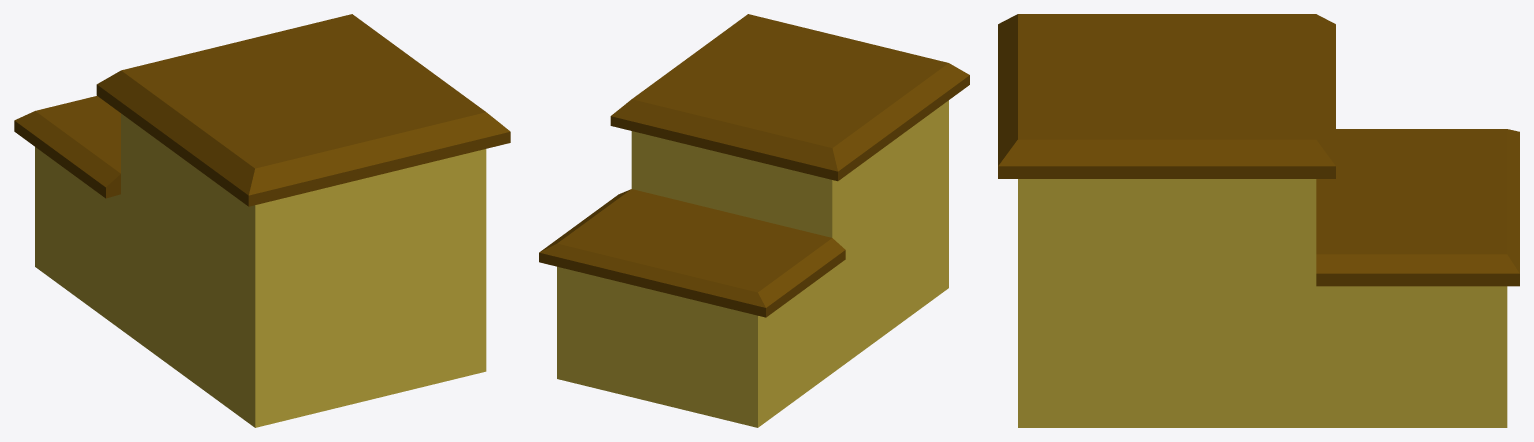
File: Modelo de casa 1.fbx
3 renders of one model, left to right at view 1: azimuth 30°, elevation 25°; view 2: azimuth 150°, elevation 25°; view 3: azimuth 270°, elevation 25°, orthographic. The views are drawn at different scales.
Visible parts, largest first — view 1: pCube1; view 2: pCube1; view 3: pCube1.
Boxes of the visible parts, x1,y1,x2,y2 form: pCube1: [14, 14, 510, 427]; pCube1: [539, 14, 969, 427]; pCube1: [998, 14, 1519, 427].
Size of the model in its own units: 5.67 by 5.37 by 8.8.
